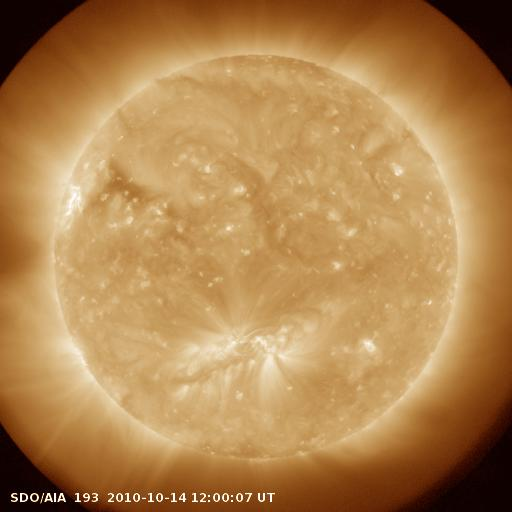coronal_hole: (81, 160, 163, 208)
